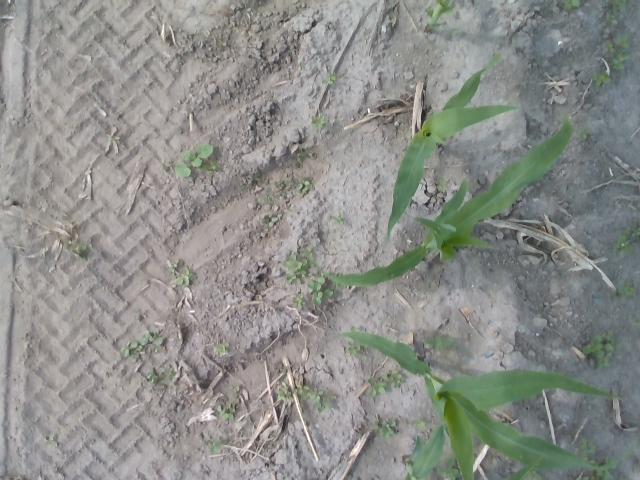Maize: (306, 113, 574, 292), (330, 331, 622, 480), (388, 54, 522, 244), (400, 420, 539, 480), (424, 0, 456, 35)
Weeds: (582, 329, 622, 370), (174, 144, 218, 178), (292, 380, 336, 412), (119, 327, 162, 359), (306, 271, 334, 307), (604, 34, 631, 70), (146, 364, 175, 389), (282, 252, 302, 286), (610, 226, 634, 254), (610, 279, 636, 303), (64, 237, 90, 259), (606, 0, 628, 25), (437, 457, 460, 480), (424, 335, 455, 352), (575, 436, 596, 460), (372, 418, 397, 438), (299, 247, 315, 277), (381, 369, 406, 388), (367, 376, 388, 398), (590, 70, 612, 88), (348, 340, 367, 360), (578, 469, 612, 480), (175, 266, 192, 288), (293, 177, 313, 195), (216, 404, 236, 421), (274, 382, 292, 400), (262, 213, 282, 229), (277, 178, 292, 198), (206, 437, 222, 455), (520, 468, 542, 480), (311, 114, 327, 130), (321, 73, 337, 88), (292, 293, 306, 309), (294, 151, 308, 167), (563, 0, 580, 12), (577, 128, 592, 140), (434, 178, 447, 191), (332, 212, 344, 226), (215, 343, 229, 354), (410, 418, 425, 428), (42, 434, 54, 445), (631, 224, 640, 237), (587, 459, 601, 467), (170, 259, 180, 270), (264, 194, 273, 205), (634, 312, 640, 328), (106, 135, 120, 141), (334, 282, 344, 290), (602, 456, 612, 463), (232, 385, 240, 393), (253, 172, 260, 181), (350, 326, 360, 332), (336, 271, 344, 276), (451, 28, 456, 36), (238, 185, 246, 190), (308, 150, 314, 156)
